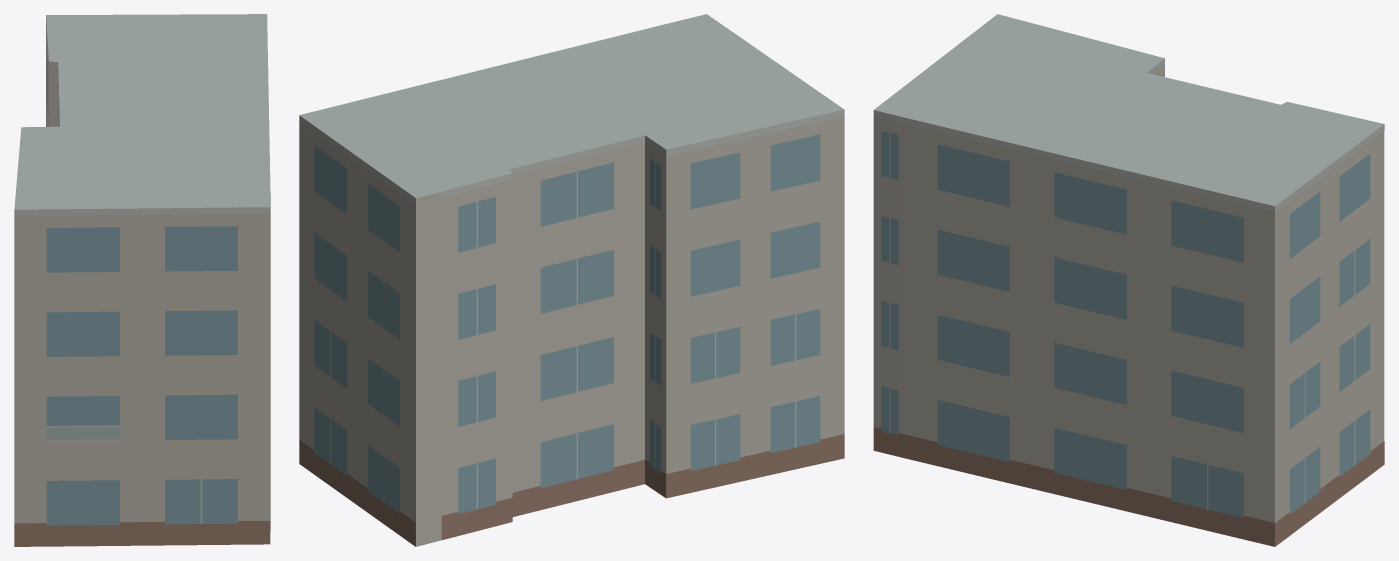
The model's file is survey-upis-32734735.glb.
The picture shows the model from 3 angles, left to right: view 1: azimuth 30°, elevation 25°; view 2: azimuth 150°, elevation 25°; view 3: azimuth 270°, elevation 25°; orthographic projection. The views are drawn at different scales.
Parts seen in each view (by area): view 1: survey-upis-32734735.tmp; view 2: survey-upis-32734735.tmp; view 3: survey-upis-32734735.tmp.
Boxes of the visible parts, x1=… form: survey-upis-32734735.tmp: x1=14, y1=14, x2=270, y2=546; survey-upis-32734735.tmp: x1=299, y1=14, x2=844, y2=546; survey-upis-32734735.tmp: x1=873, y1=14, x2=1384, y2=546.
Size of the model in its own units: 15.87 by 13.1 by 17.81.
